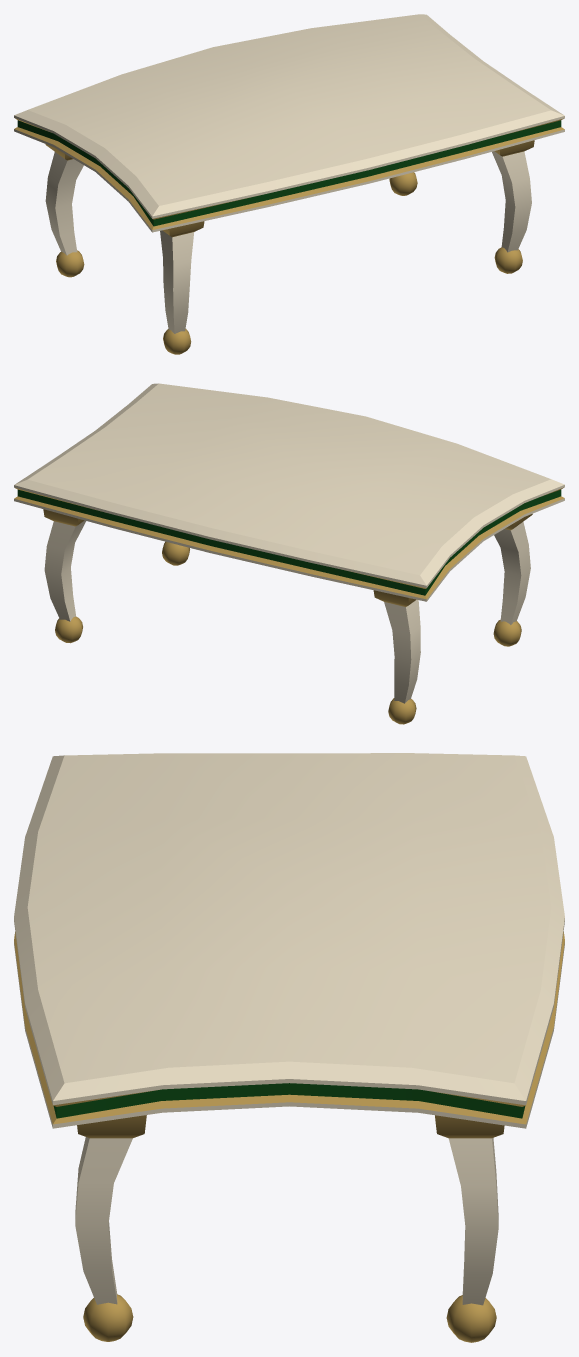
Rendered from BallroomTableUV.fbx.
The picture shows the model from 3 angles, top to bottom: view 1: azimuth 30°, elevation 25°; view 2: azimuth 150°, elevation 25°; view 3: azimuth 270°, elevation 25°; orthographic projection. The views are drawn at different scales.
Parts seen in each view (by area): view 1: SmallTable:Mesh; view 2: SmallTable:Mesh; view 3: SmallTable:Mesh.
Boxes of the visible parts, x1,y1,x2,y2 form: SmallTable:Mesh: [14, 14, 564, 354]; SmallTable:Mesh: [14, 383, 564, 724]; SmallTable:Mesh: [14, 753, 564, 1342].
Bounding box in the file's own units: 200 × 85.73 × 135.
